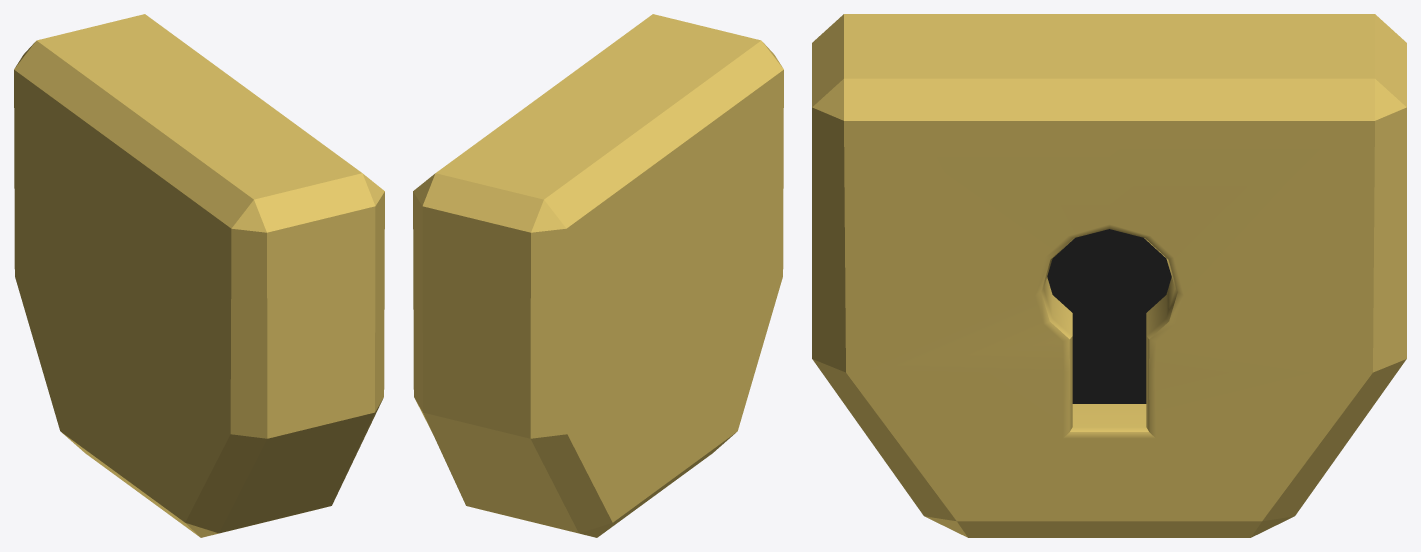
The model's file is a1_lock.fbx.
3 views of the same model, side by side, from view 1: azimuth 30°, elevation 25°; view 2: azimuth 150°, elevation 25°; view 3: azimuth 270°, elevation 25° (orthographic). The views are drawn at different scales.
Visible parts, largest first — view 1: lock; view 2: lock; view 3: lock.
Boxes of the visible parts, x1,y1,x2,y2 form: lock: (14, 14, 384, 537); lock: (413, 14, 783, 537); lock: (812, 14, 1406, 537).
Bounding box in the file's own units: 0.6641 × 1.55 × 1.82.
